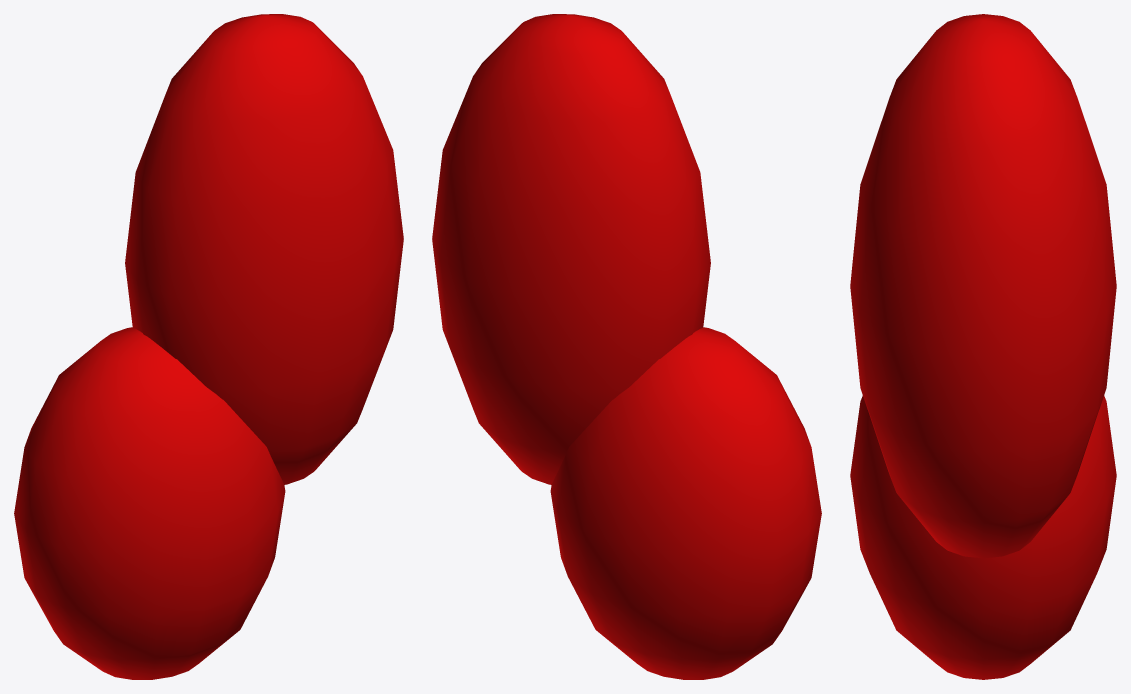
Rendered from hair-gap-fill-v2.glb.
3 views of the same model, side by side, from view 1: azimuth 30°, elevation 25°; view 2: azimuth 150°, elevation 25°; view 3: azimuth 270°, elevation 25° (orthographic). The views are drawn at different scales.
Parts seen in each view (by area): view 1: HairGapFill.L.Upper.Runtime, HairGapFill.L.Lower.Runtime; view 2: HairGapFill.L.Upper.Runtime, HairGapFill.L.Lower.Runtime; view 3: HairGapFill.L.Upper.Runtime, HairGapFill.L.Lower.Runtime.
Part boxes in pixels (x1,y1,x2,y2): HairGapFill.L.Upper.Runtime: (125, 14, 403, 484); HairGapFill.L.Lower.Runtime: (14, 327, 285, 679); HairGapFill.L.Upper.Runtime: (432, 14, 710, 484); HairGapFill.L.Lower.Runtime: (550, 327, 821, 679); HairGapFill.L.Upper.Runtime: (850, 14, 1116, 558); HairGapFill.L.Lower.Runtime: (850, 395, 1116, 679).
Bounding box in the file's own units: 0.1782 × 0.2946 × 0.1.
